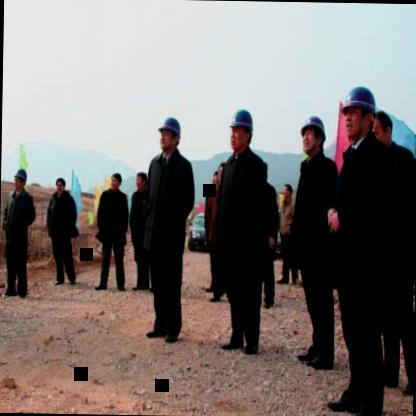head: (296, 115, 326, 161), (371, 104, 395, 144), (134, 167, 148, 192), (108, 170, 122, 192), (281, 180, 294, 202), (53, 174, 66, 194)
helmet: (340, 77, 376, 144), (226, 104, 256, 154), (155, 112, 182, 155), (12, 164, 29, 192)
